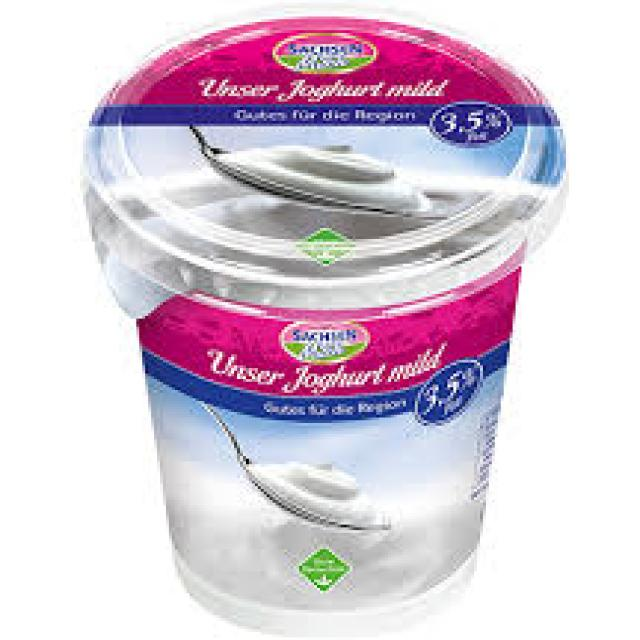plastic: (83, 3, 563, 629)
